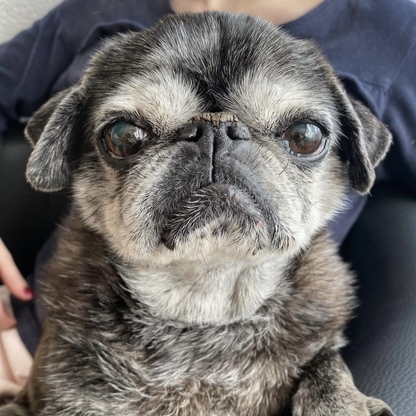Pug: (17, 6, 407, 416)
